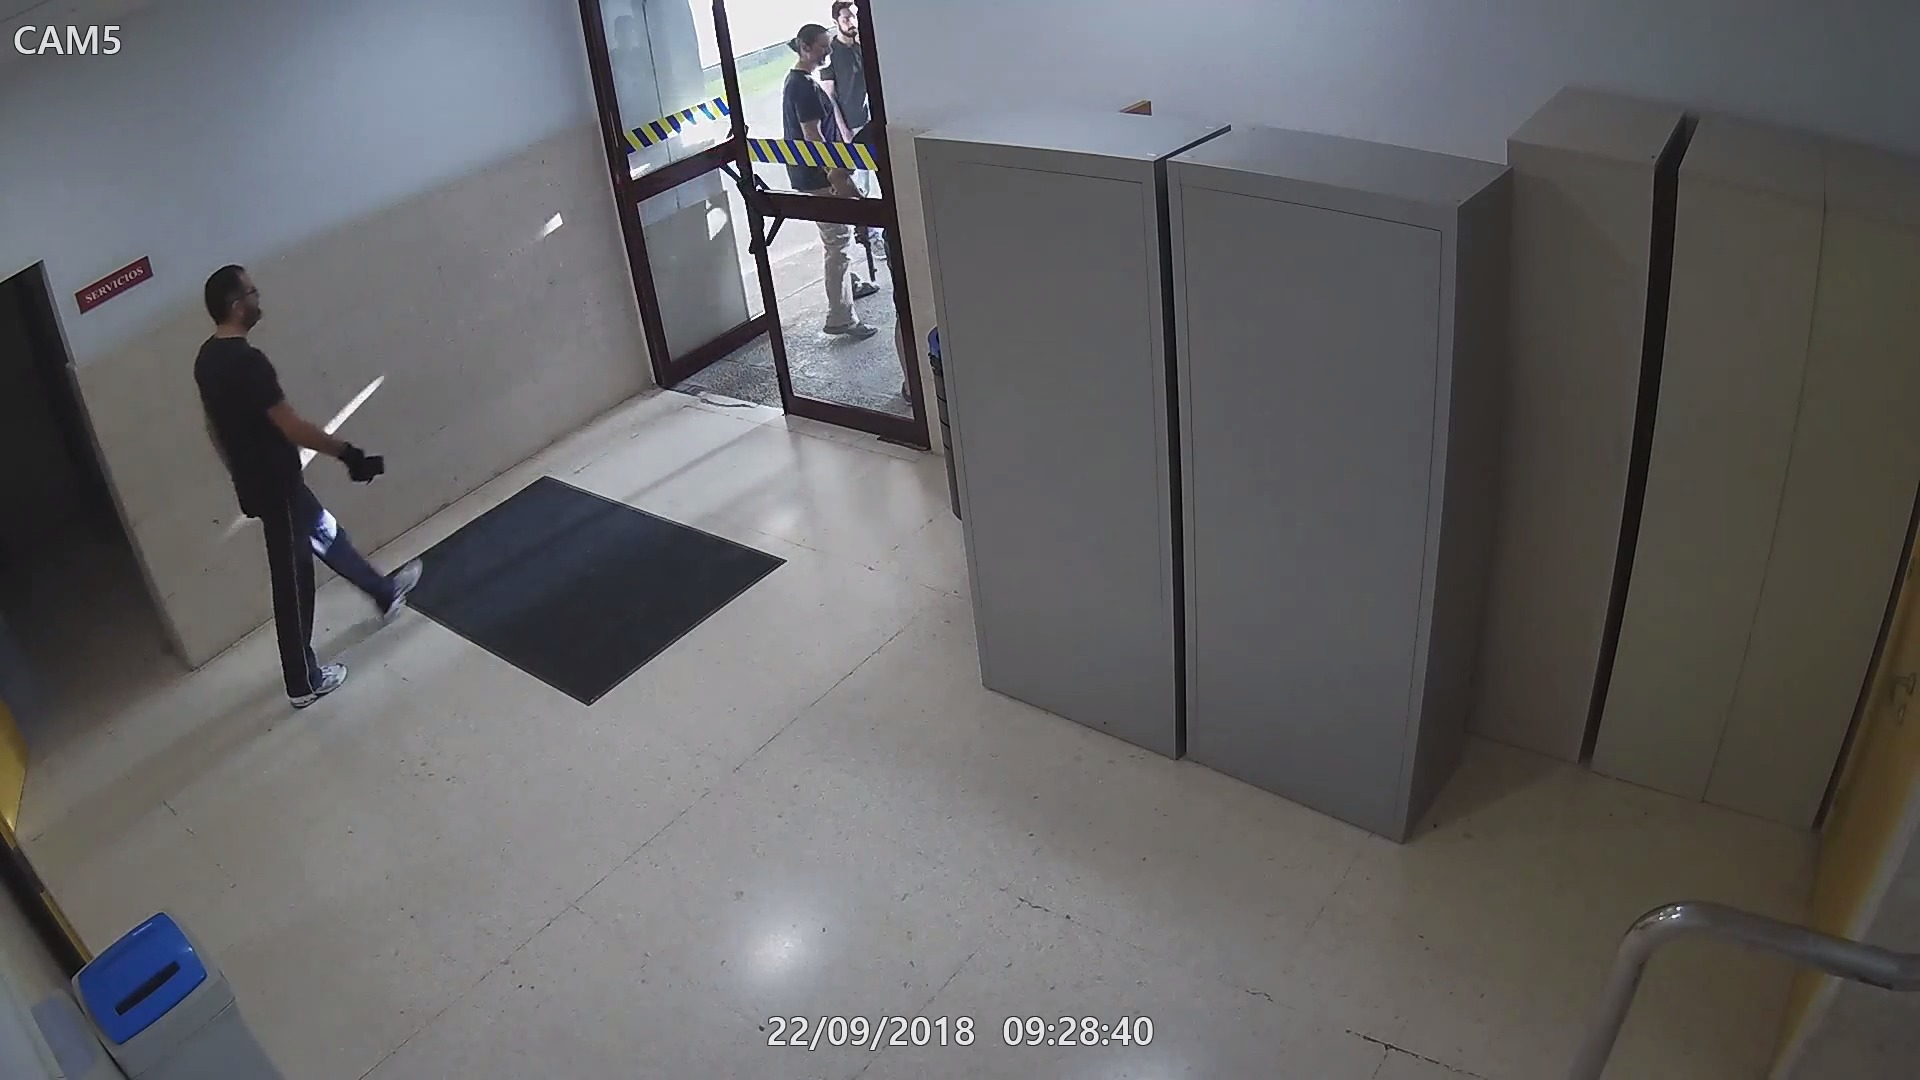Short_rifle: (839, 185, 878, 282)
